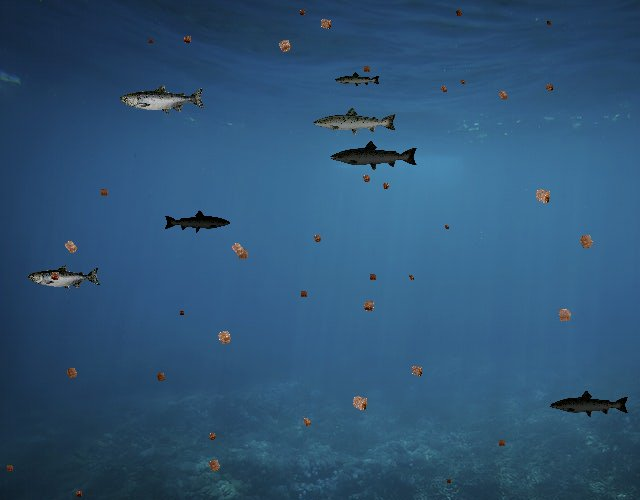Fish: (330, 140, 420, 172), (312, 106, 398, 137), (120, 84, 206, 115), (549, 390, 630, 419), (29, 264, 102, 291), (163, 210, 231, 234), (334, 72, 381, 89)
Pellet: (314, 13, 337, 36), (493, 85, 513, 105), (179, 31, 196, 48), (366, 270, 380, 284), (458, 76, 468, 87)
